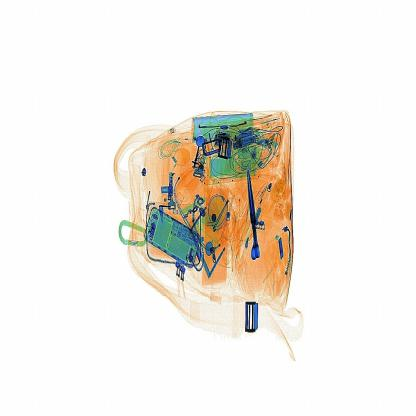gun: (242, 163, 269, 271)
